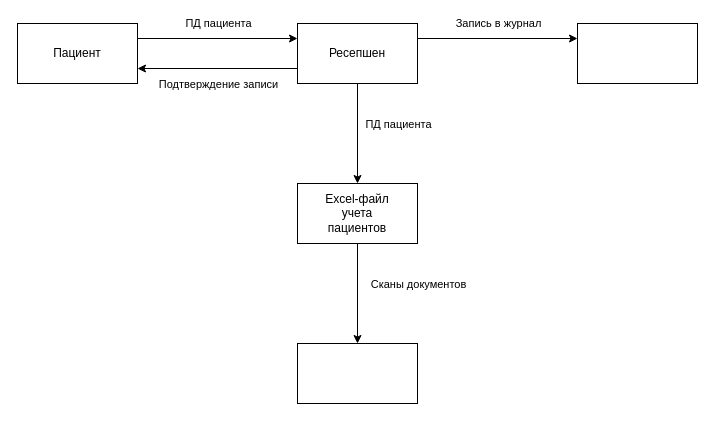
This 715x421 diagram has some shape labels left out. The box of each missing label's shape, as (x1, y1, x2, y2) in pixels:
Excel-файл журнала приемов: (576, 22, 698, 84)
Общий диск (сканы документов): (296, 342, 418, 404)
